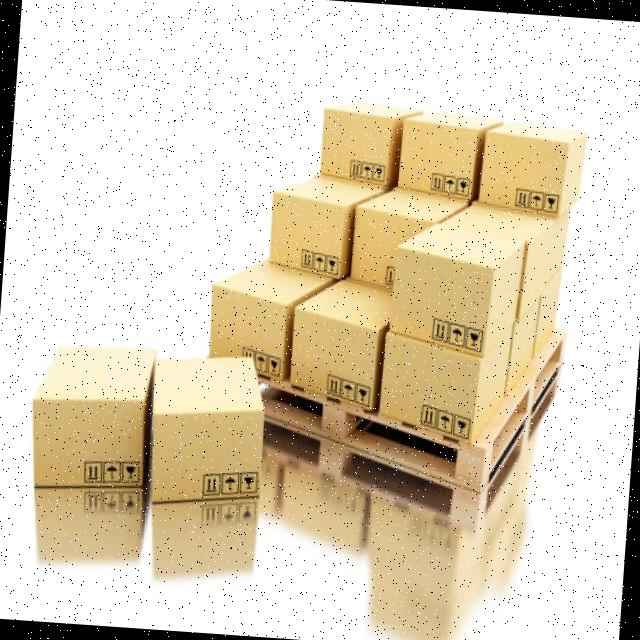Wooden-Pallets: (261, 333, 567, 495)
